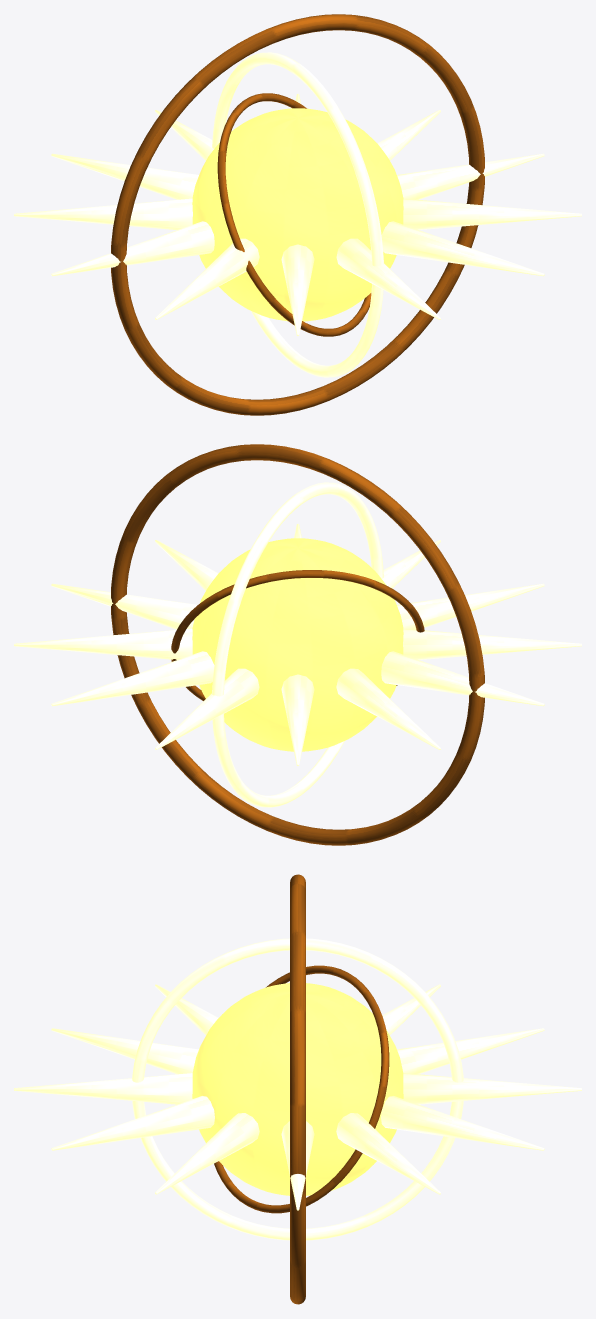
Rendered from spell_luminary_halo.glb.
3 views of the same model, one above another, from view 1: azimuth 30°, elevation 25°; view 2: azimuth 150°, elevation 25°; view 3: azimuth 270°, elevation 25° (orthographic).
Parts seen in each view (by area): view 1: SolarCore, Halo_Outer, Halo_Mid, RadiantRay_11, Halo_Inner, RadiantRay_10, RadiantRay_6, RadiantRay_5, RadiantRay_0, RadiantRay_9, RadiantRay_7, RadiantRay_4 (+3 smaller); view 2: SolarCore, Halo_Outer, Halo_Mid, RadiantRay_2, RadiantRay_1, RadiantRay_6, RadiantRay_7, Halo_Inner, RadiantRay_5, RadiantRay_3, RadiantRay_0, RadiantRay_8 (+3 smaller); view 3: SolarCore, Halo_Mid, Halo_Outer, Halo_Inner, RadiantRay_3, RadiantRay_9, RadiantRay_2, RadiantRay_10, RadiantRay_11, RadiantRay_1, RadiantRay_4, RadiantRay_8 (+3 smaller).
Part boxes in pixels (x1,y1,x2,y2): SolarCore: [192, 108, 403, 321]; Halo_Outer: [111, 14, 484, 415]; Halo_Mid: [212, 52, 383, 377]; RadiantRay_11: [403, 198, 581, 229]; Halo_Inner: [217, 93, 371, 336]; RadiantRay_10: [381, 221, 544, 276]; RadiantRay_6: [51, 221, 214, 276]; RadiantRay_5: [14, 198, 192, 229]; RadiantRay_0: [397, 153, 544, 199]; RadiantRay_9: [336, 238, 440, 319]; RadiantRay_7: [155, 238, 259, 319]; RadiantRay_4: [51, 153, 198, 199]; SolarCore: [192, 538, 403, 751]; Halo_Outer: [111, 444, 484, 845]; Halo_Mid: [212, 482, 383, 807]; RadiantRay_2: [51, 651, 214, 706]; RadiantRay_1: [14, 628, 192, 659]; RadiantRay_6: [381, 651, 544, 706]; RadiantRay_7: [403, 628, 581, 659]; Halo_Inner: [171, 570, 424, 700]; RadiantRay_5: [336, 668, 440, 749]; RadiantRay_3: [155, 668, 259, 749]; RadiantRay_0: [51, 583, 197, 629]; RadiantRay_8: [397, 583, 544, 629]; SolarCore: [192, 983, 403, 1195]; Halo_Mid: [132, 938, 463, 1240]; Halo_Outer: [290, 874, 305, 1304]; Halo_Inner: [214, 965, 389, 1213]; RadiantRay_3: [403, 1073, 581, 1104]; RadiantRay_9: [14, 1073, 192, 1104]; RadiantRay_2: [381, 1096, 544, 1150]; RadiantRay_10: [51, 1096, 214, 1150]; RadiantRay_11: [155, 1113, 259, 1194]; RadiantRay_1: [336, 1113, 440, 1194]; RadiantRay_4: [397, 1028, 544, 1074]; RadiantRay_8: [51, 1028, 198, 1074].
Bounding box in the file's own units: 1.7 × 1.29 × 1.7.
Materials: 3 (3 with a texture image).
